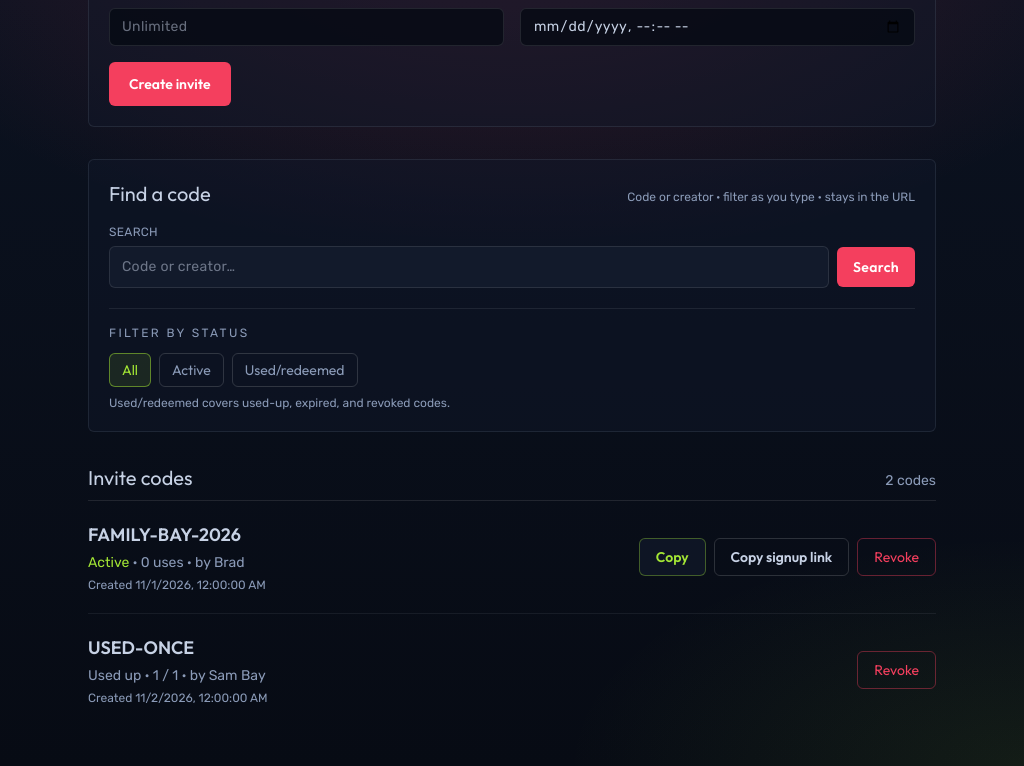
Test: AdminInvitesPage › copies an active invite code and toasts success
(page scrolled)
Check: the text "FAMILY-BAY-2026" is shown, box [88,520,266,548]
Click the button with aria-label "Copy invite code FAMILY-BAY-2026" at (672, 556), box [639,538,706,576]
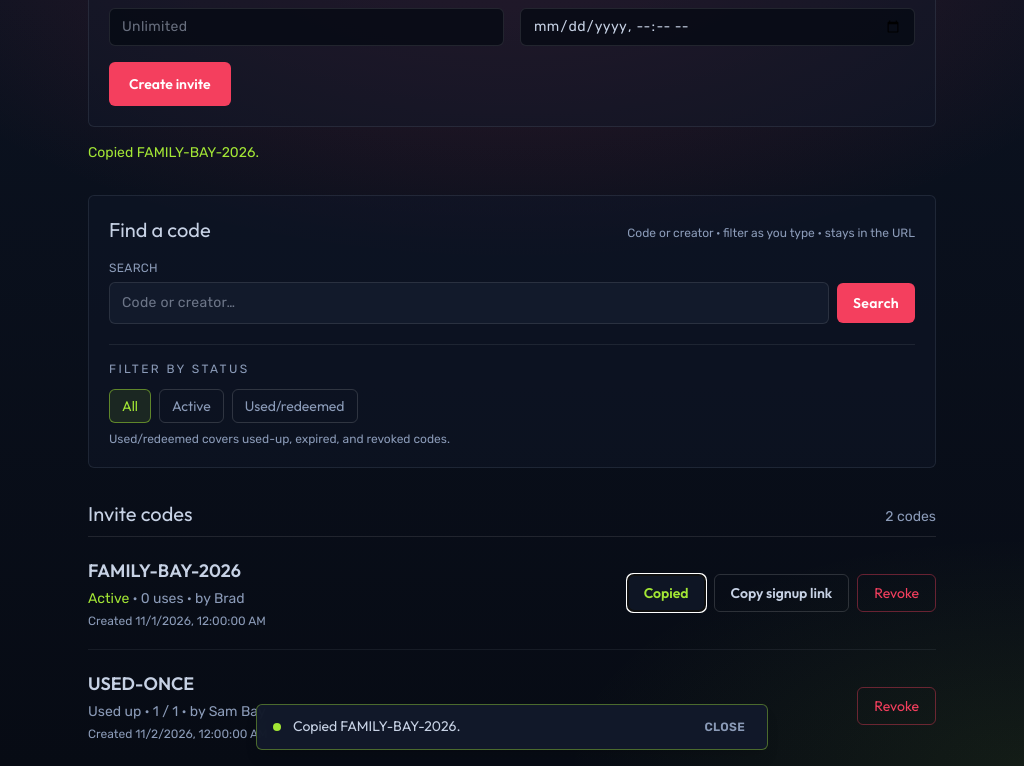
Check: the message shows "Copied FAMILY-BAY-2026", box [293,717,460,735]
Check: the button with aria-label "Copy invite code FAMILY-BAY-2026" reads "Copied", box [627,574,706,612]
